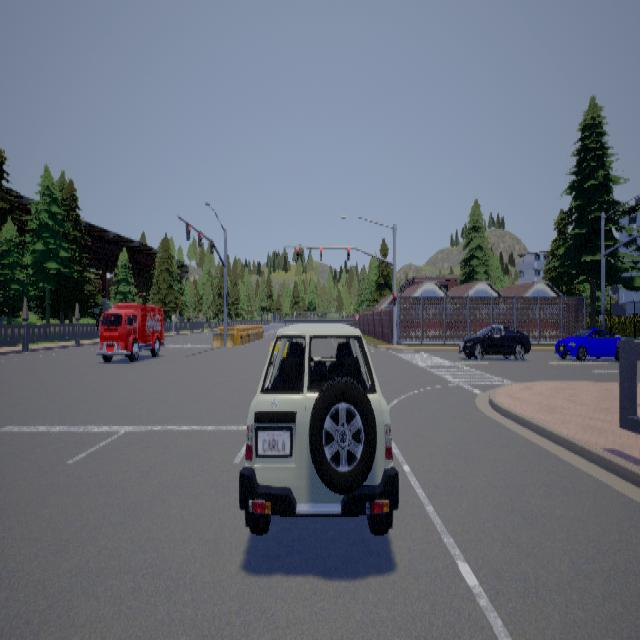red_light: (186, 222, 191, 240), (198, 230, 202, 247), (210, 238, 213, 254), (393, 292, 396, 306), (347, 247, 350, 260), (320, 247, 322, 260), (296, 247, 298, 260)
traffic_light: (225, 291, 228, 305)
vehicle: (238, 310, 398, 534), (95, 302, 164, 361), (457, 325, 530, 359), (553, 327, 620, 360)
